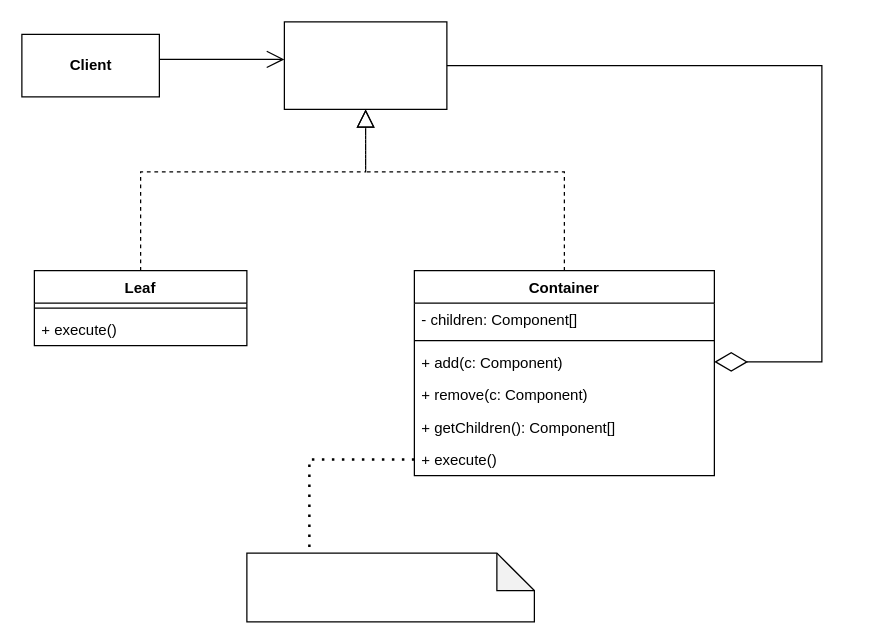
Some shapes in this 876 by 644 pixel diagram are drawn without their labels. The shapes that lost their labels are listed below. From the top down, each one's centre as x and y in pixels, then its label:
point (365, 65): <<Interface>> Component + execute()
point (390, 587): for(Component c : components) { c.execute() }
